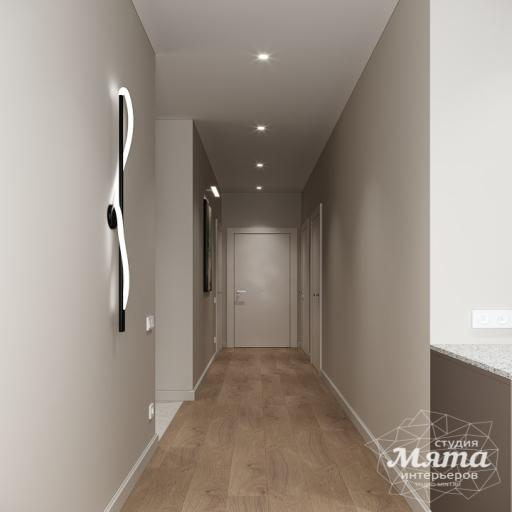corridor: (234, 233, 290, 347), (311, 204, 322, 372), (300, 220, 310, 357), (216, 220, 223, 352)
curb: (174, 74, 378, 448)
